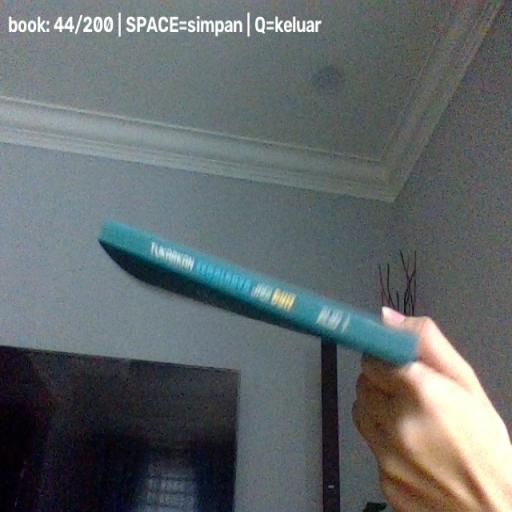Book: (98, 219, 419, 366)
